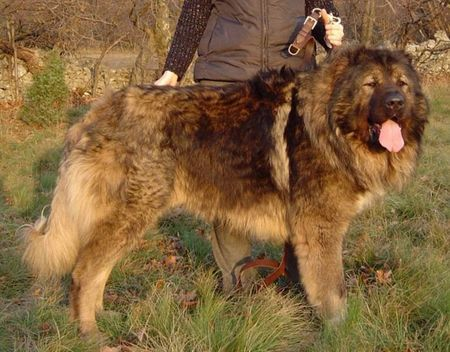cau_ovcharka: (18, 42, 432, 343)
person: (153, 0, 344, 299)
